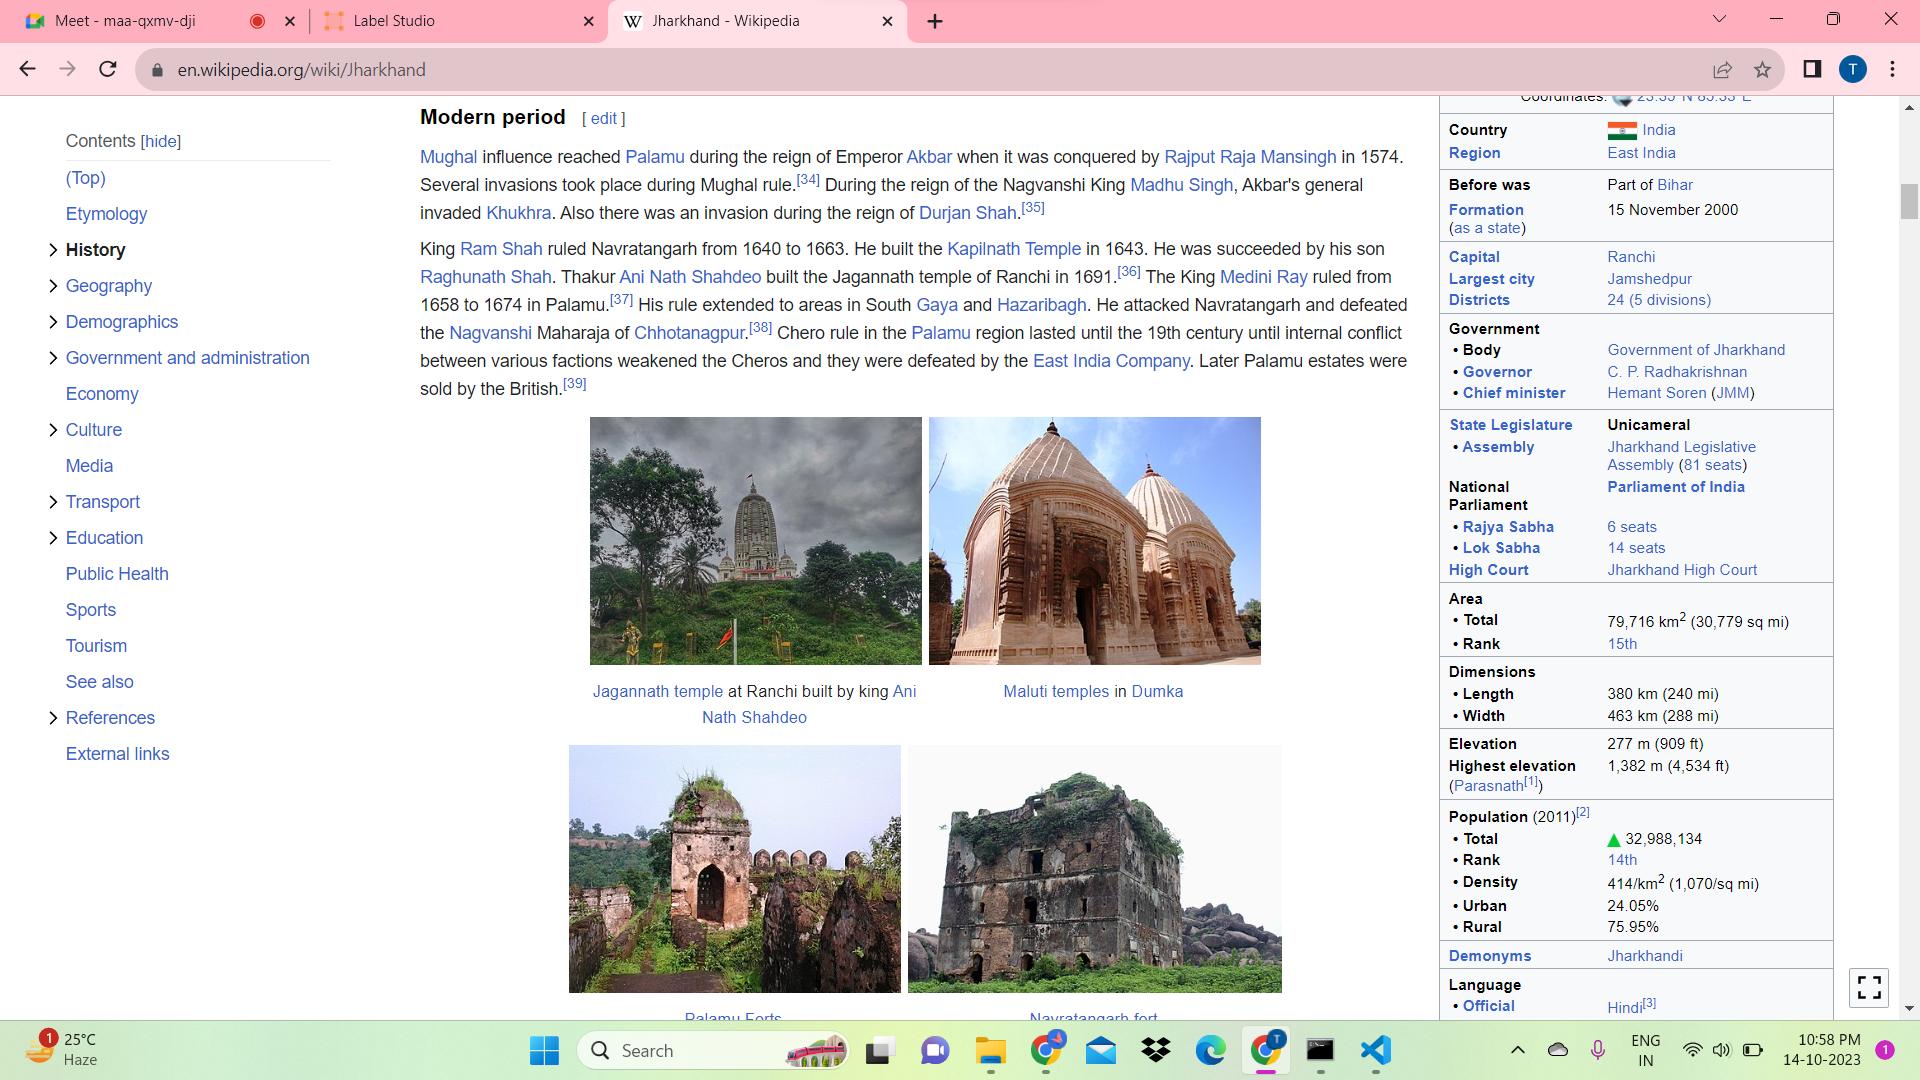Image: (909, 740, 1296, 1004), (922, 418, 1271, 675), (566, 740, 903, 994), (576, 423, 922, 669)
Paragraph: (1439, 95, 1784, 1014), (410, 228, 1398, 414), (404, 129, 1391, 227), (54, 560, 210, 774), (58, 345, 326, 380), (51, 164, 157, 227), (51, 119, 210, 160), (411, 104, 576, 133), (62, 306, 196, 340), (62, 481, 166, 522), (58, 269, 173, 305), (54, 526, 162, 556), (50, 447, 128, 479), (61, 235, 145, 264), (62, 384, 146, 404), (65, 417, 129, 435)
